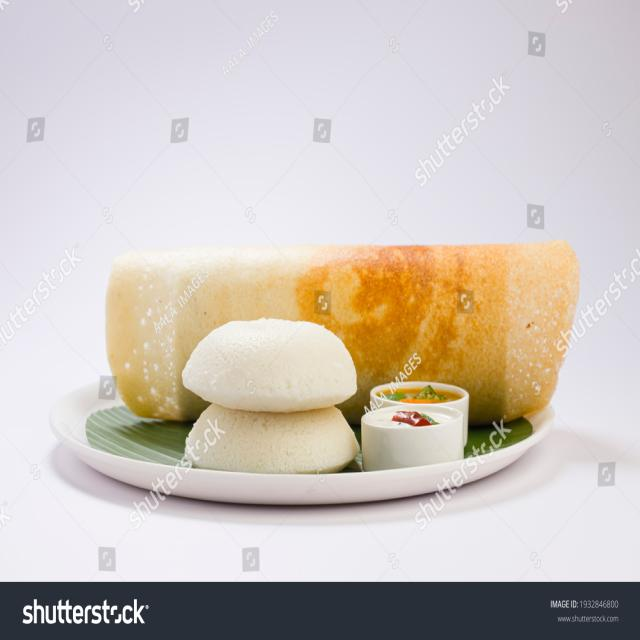IDLI: (106, 240, 579, 424), (182, 318, 357, 412), (185, 403, 360, 473)
